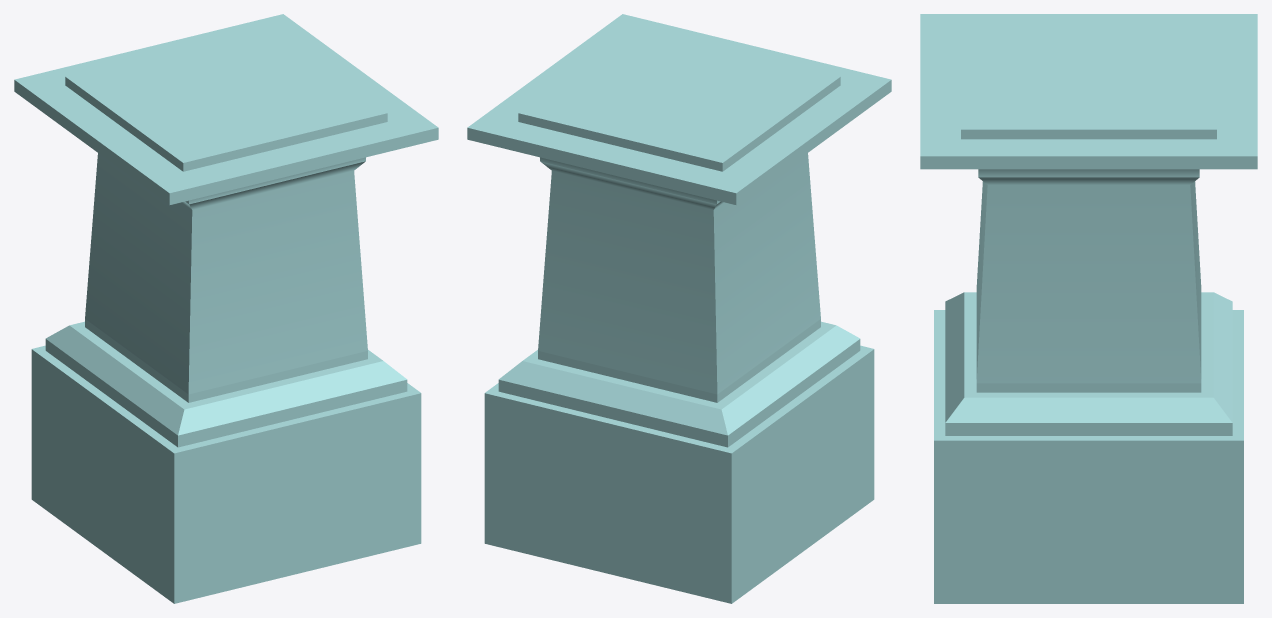
File: F40_Pedestal.fbx
The picture shows the model from 3 angles, left to right: view 1: azimuth 30°, elevation 25°; view 2: azimuth 150°, elevation 25°; view 3: azimuth 270°, elevation 25°; orthographic projection. The views are drawn at different scales.
Visible parts, largest first — view 1: Pedestal; view 2: Pedestal; view 3: Pedestal.
Boxes of the visible parts, x1,y1,x2,y2 form: Pedestal: (14,14,438,603); Pedestal: (467,14,891,603); Pedestal: (920,14,1257,603).
Bounding box in the file's own units: 1.09 × 1.65 × 1.09.
